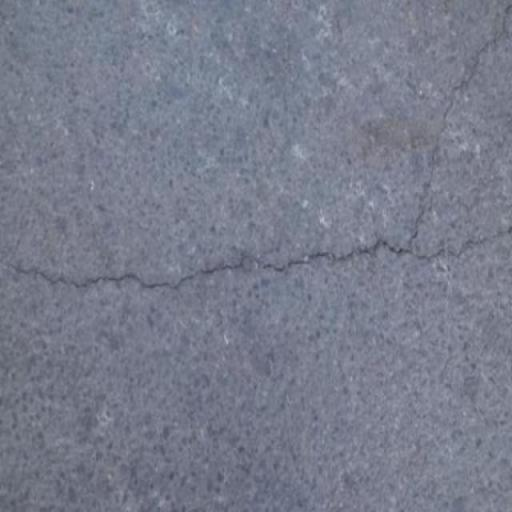moderate crack: (7, 225, 500, 292), (391, 31, 484, 257), (356, 112, 439, 156), (448, 218, 512, 256), (245, 250, 332, 275), (433, 337, 467, 392)
severe crack: (237, 258, 512, 511), (0, 275, 267, 503), (91, 1, 361, 184), (0, 0, 111, 119), (486, 3, 512, 61), (192, 255, 253, 278), (260, 106, 279, 132), (504, 220, 512, 237)
